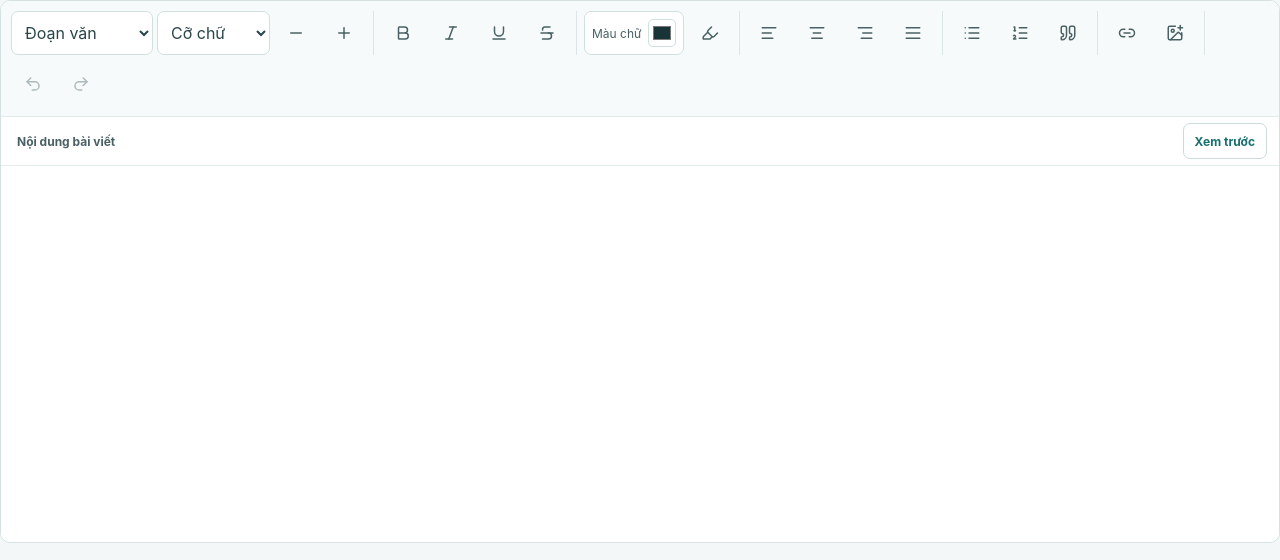
Test: NewsRichTextEditor › renders accessible formatting controls and toggles an editing preview
Later steps or results of the test are not shown.
Check: the element named "Định dạng nội dung Rich Text" is shown, box [1,1,1279,117]
Check: the button named "Tăng cỡ chữ" is shown, box [322,11,366,55]
Step 1. Click the button named "In đậm" → (403, 33), box [381,11,425,55]
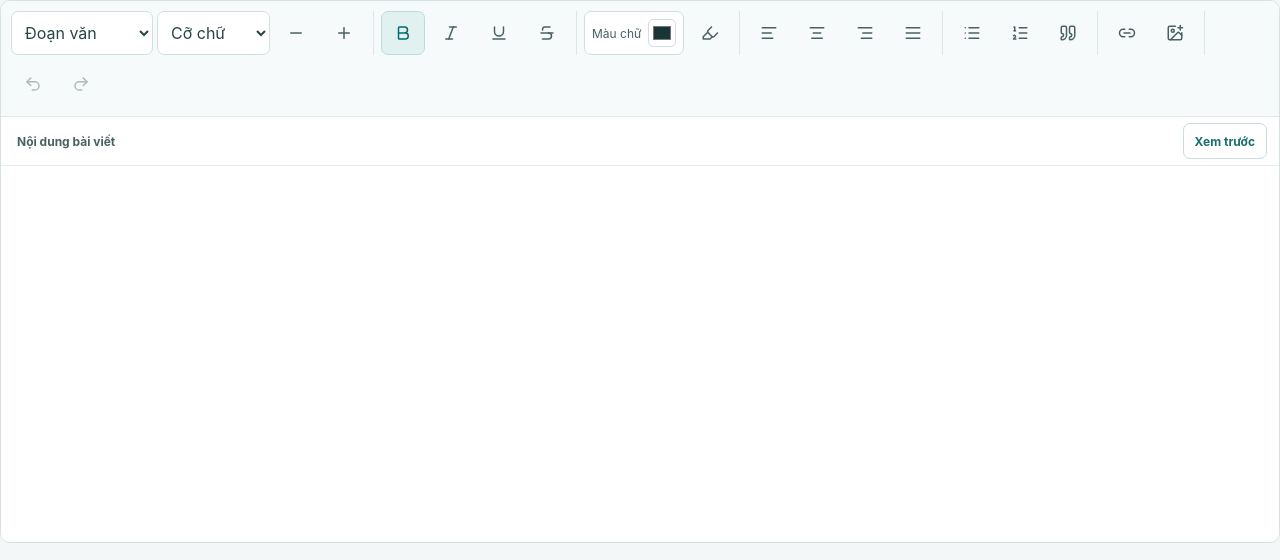
Check: the button named "In đậm" is pressed, box [381,11,425,55]
Step 2. Click the button "Xem trước" → (1225, 141), box [1183,123,1267,159]
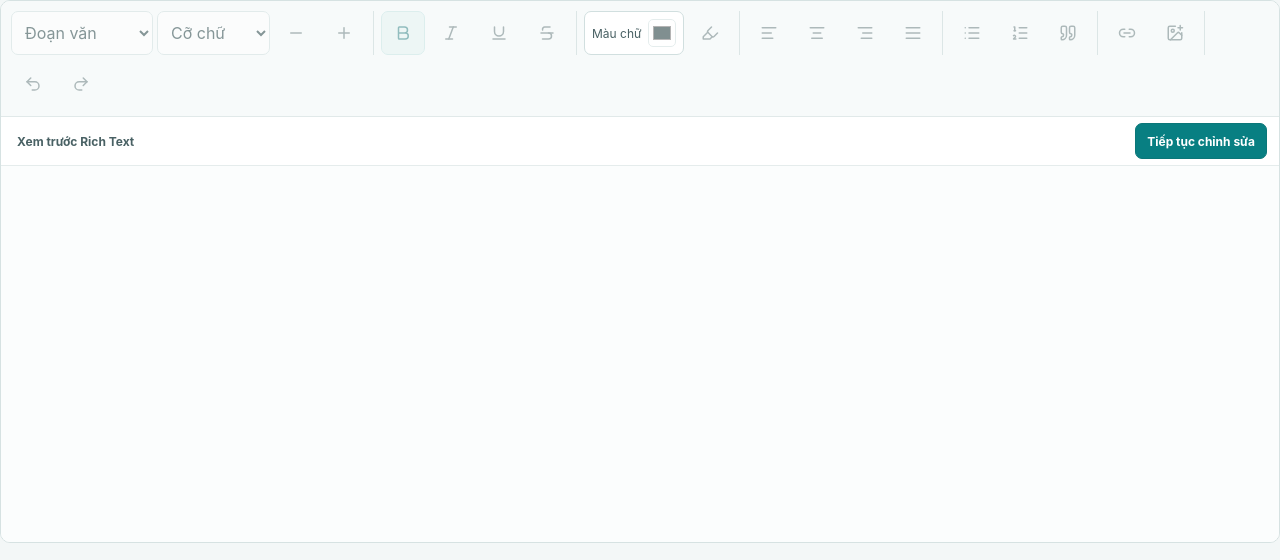
Check: the button named "In đậm" is disabled, box [381,11,425,55]
